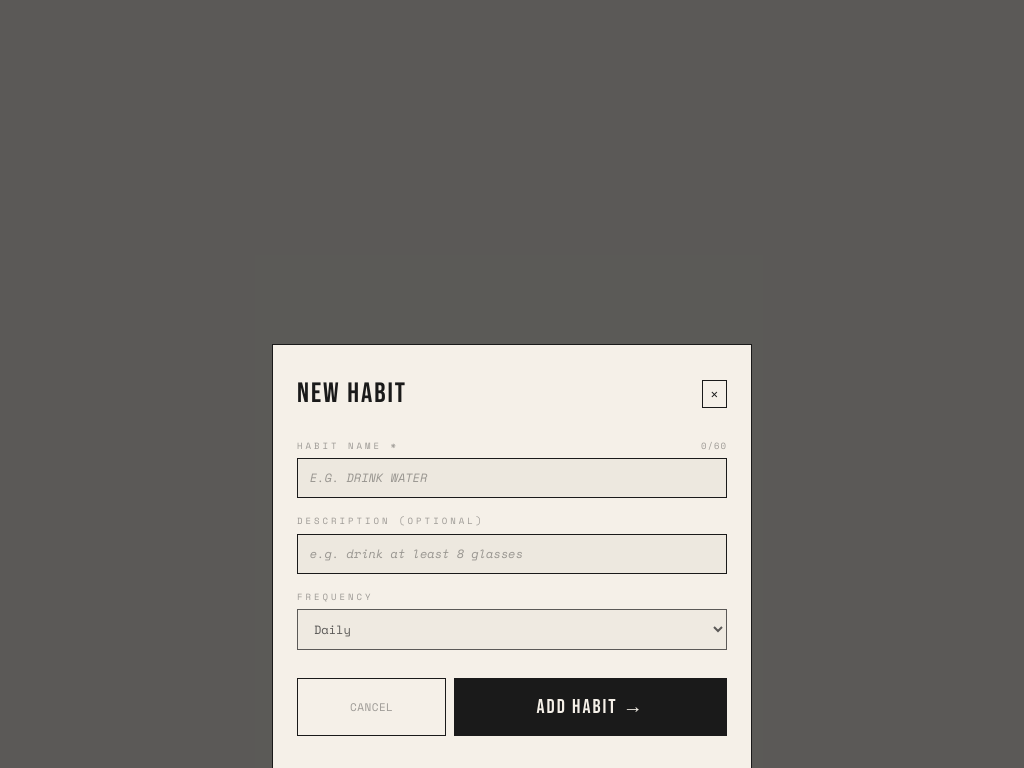
Test case: habit form › shows a validation error when habit name is empty
The image size is (1024, 768).
Click the button with test id "habit-save-button" at (591,707), box [454, 678, 727, 736]
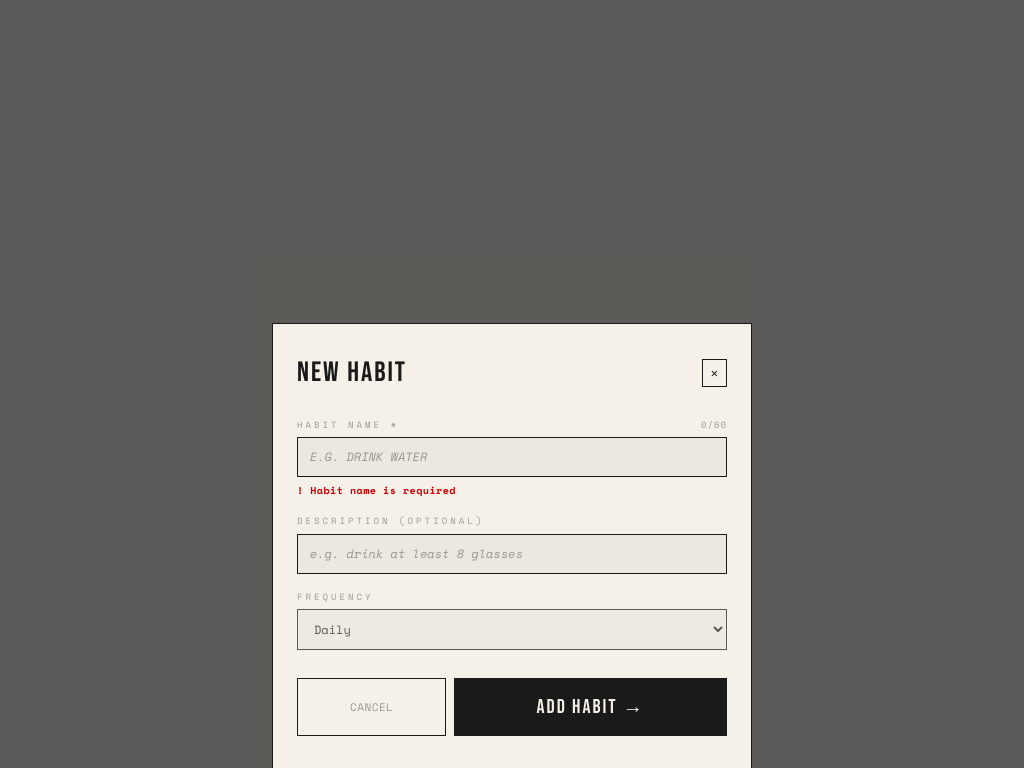
Result: the message shows "Habit name is required" at [310, 483, 456, 498]
